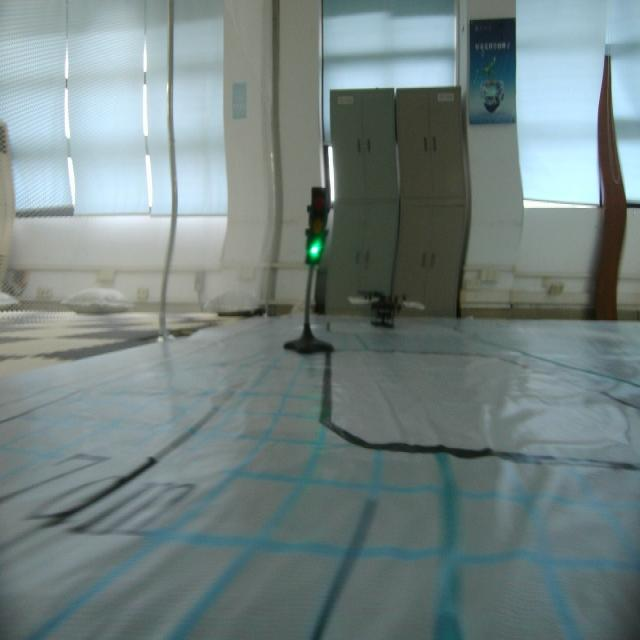green: (301, 185, 330, 272)
